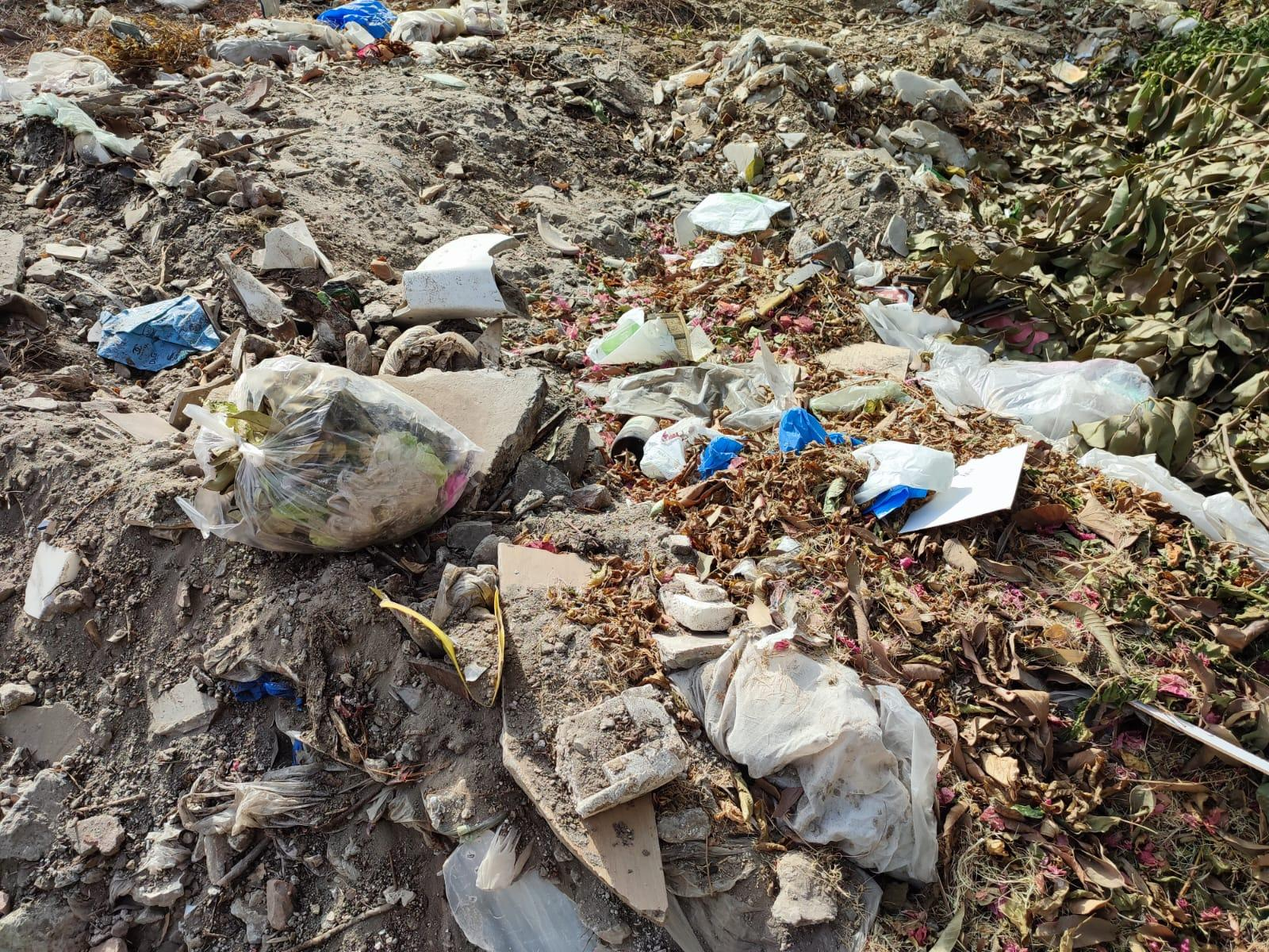garbage: (141, 234, 1213, 689), (209, 0, 567, 106)
